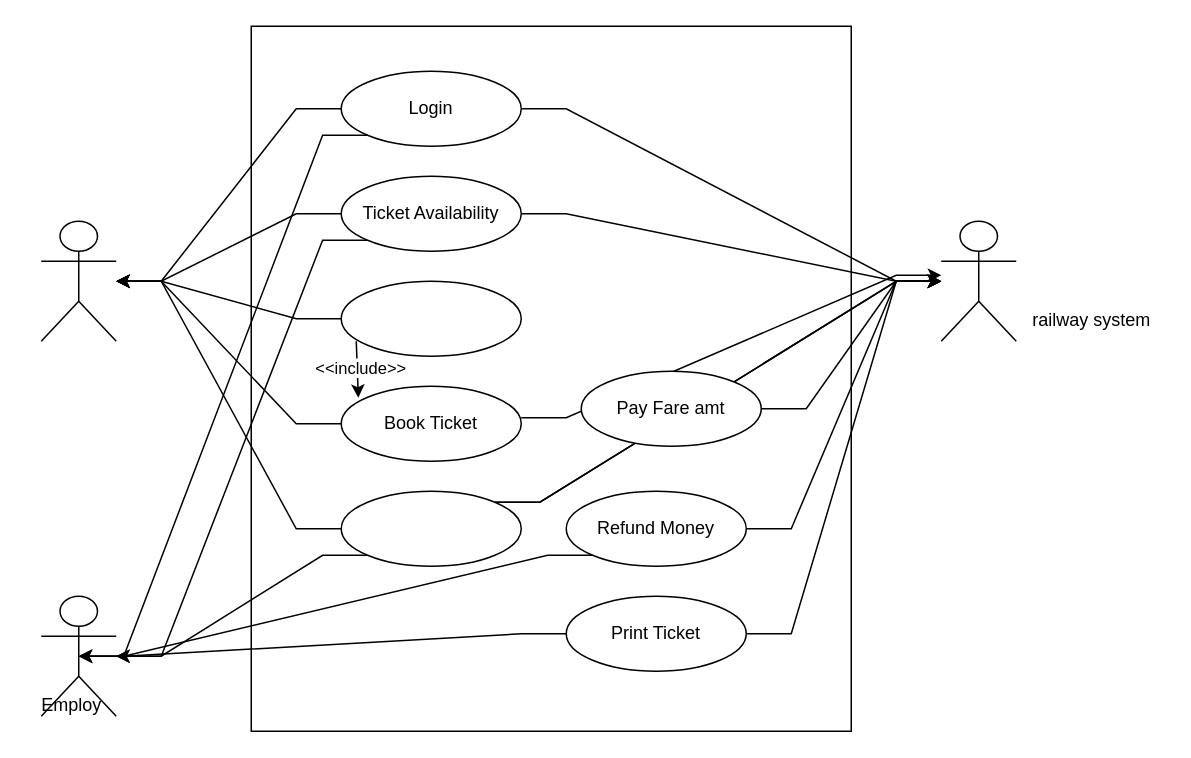
Some shapes in this 1191 by 758 pixel diagram are drawn without their labels. Each missing label, with the centre of its shape:
"Cancel Ticket" goes at point 430,528.
"Fill form" goes at point 430,318.
"Passenger" goes at point 78,280.
